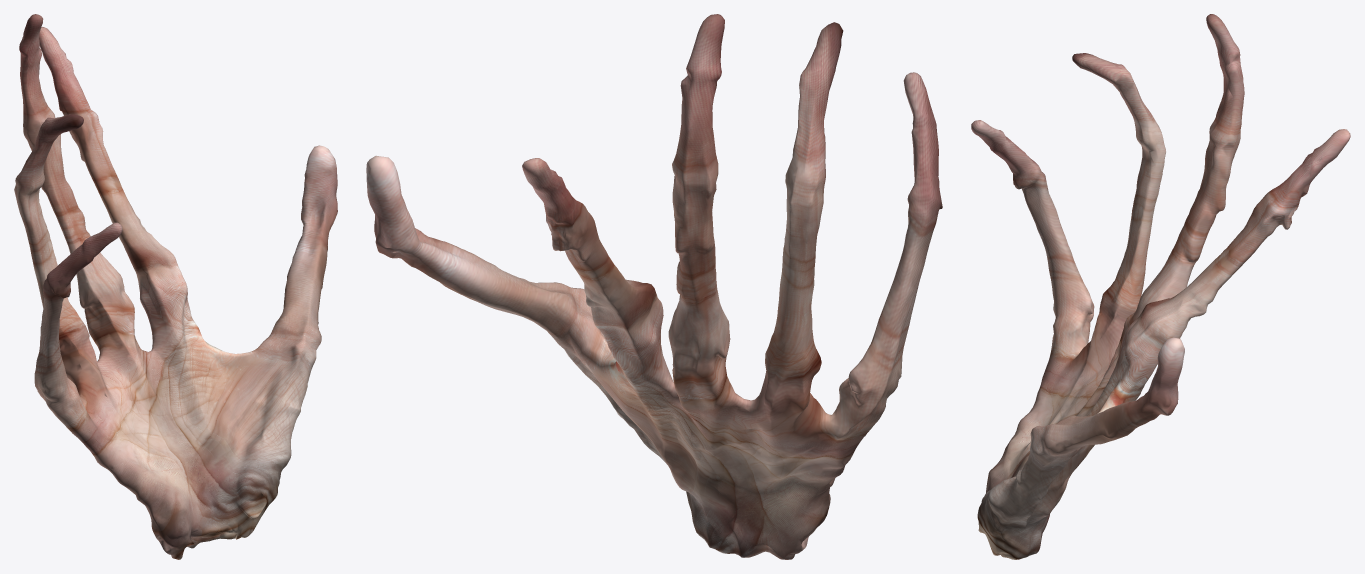
Rendered from CarouselMesh3.glb.
3 renders of one model, left to right at view 1: azimuth 30°, elevation 25°; view 2: azimuth 150°, elevation 25°; view 3: azimuth 270°, elevation 25°, orthographic. The views are drawn at different scales.
Visible parts, largest first — view 1: 3Hand; view 2: 3Hand; view 3: 3Hand.
Part boxes in pixels (x1,y1,x2,y2): 3Hand: (14, 14, 337, 559); 3Hand: (366, 14, 942, 559); 3Hand: (971, 14, 1350, 559).
Bounding box in the file's own units: 3.89 × 5.07 × 3.49.
1 material, 1 textured.
